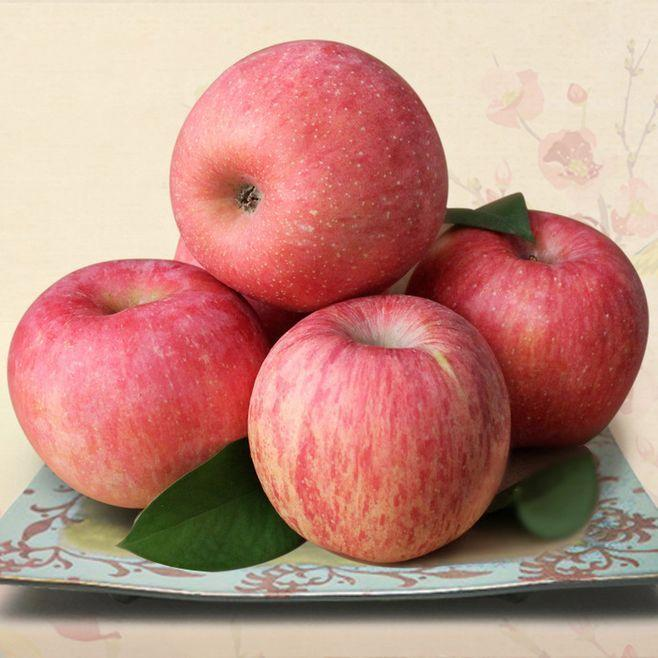apple: (168, 39, 452, 310), (245, 293, 515, 565), (8, 254, 264, 504), (398, 212, 646, 461)
